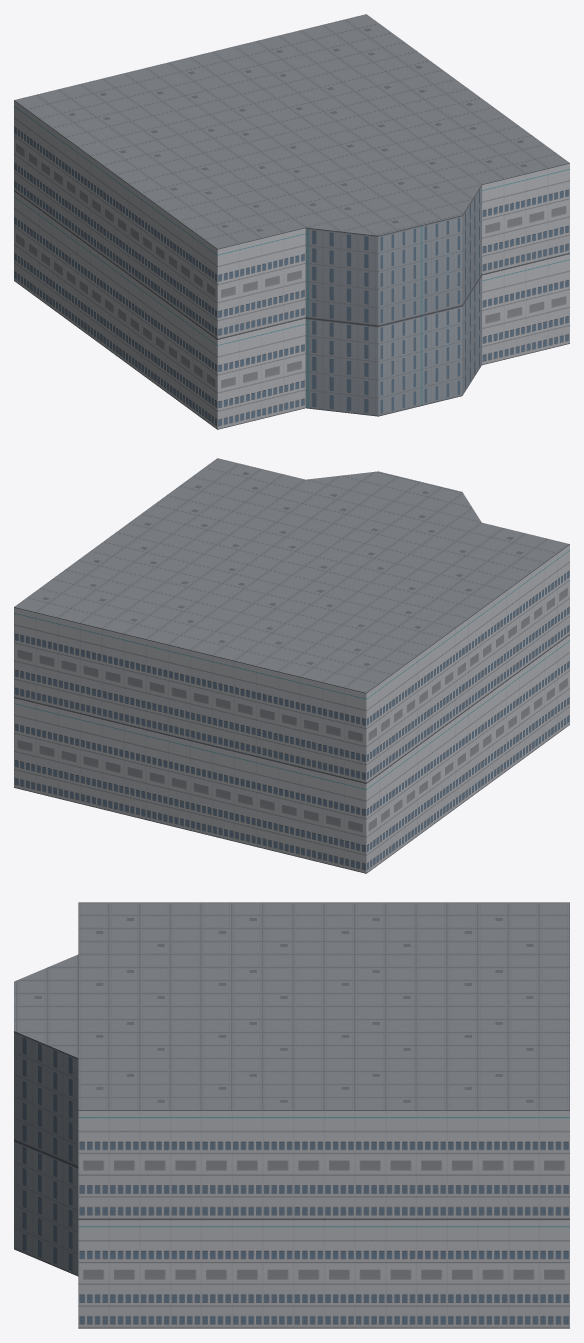
Rendered from BLD_POD_Edge.fbx.
3 renders of one model, top to bottom at view 1: azimuth 30°, elevation 25°; view 2: azimuth 150°, elevation 25°; view 3: azimuth 270°, elevation 25°, orthographic. The views are drawn at different scales.
Parts seen in each view (by area): view 1: BLD_POD_Edge; view 2: BLD_POD_Edge; view 3: BLD_POD_Edge.
Boxes of the visible parts, x1,y1,x2,y2 form: BLD_POD_Edge: (14, 14, 569, 429); BLD_POD_Edge: (14, 458, 569, 873); BLD_POD_Edge: (14, 902, 569, 1328).
Bounding box in the file's own units: 100 × 49 × 113.
